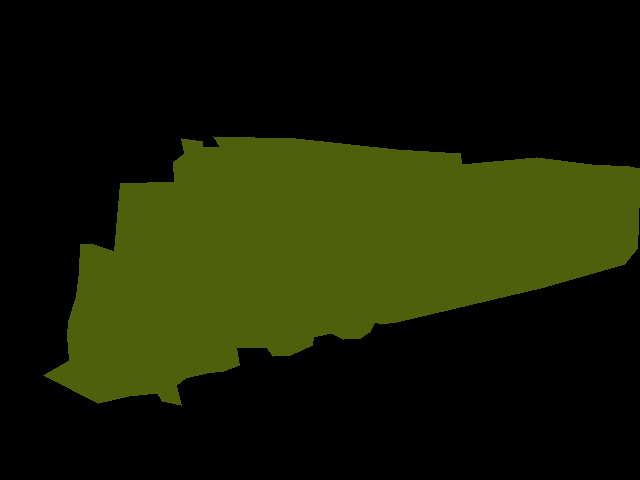Train: (43, 136, 640, 406)
